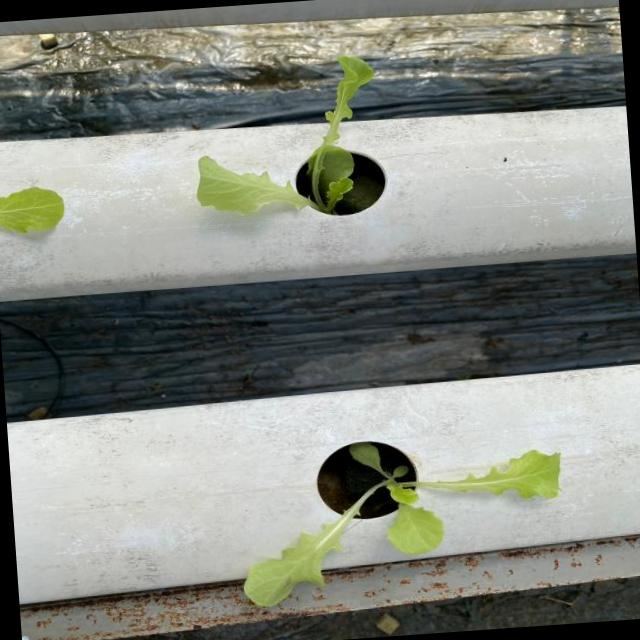Lettuce-Not-Ready-to-Harvest: (244, 443, 559, 604), (198, 55, 373, 214), (0, 187, 63, 232)
